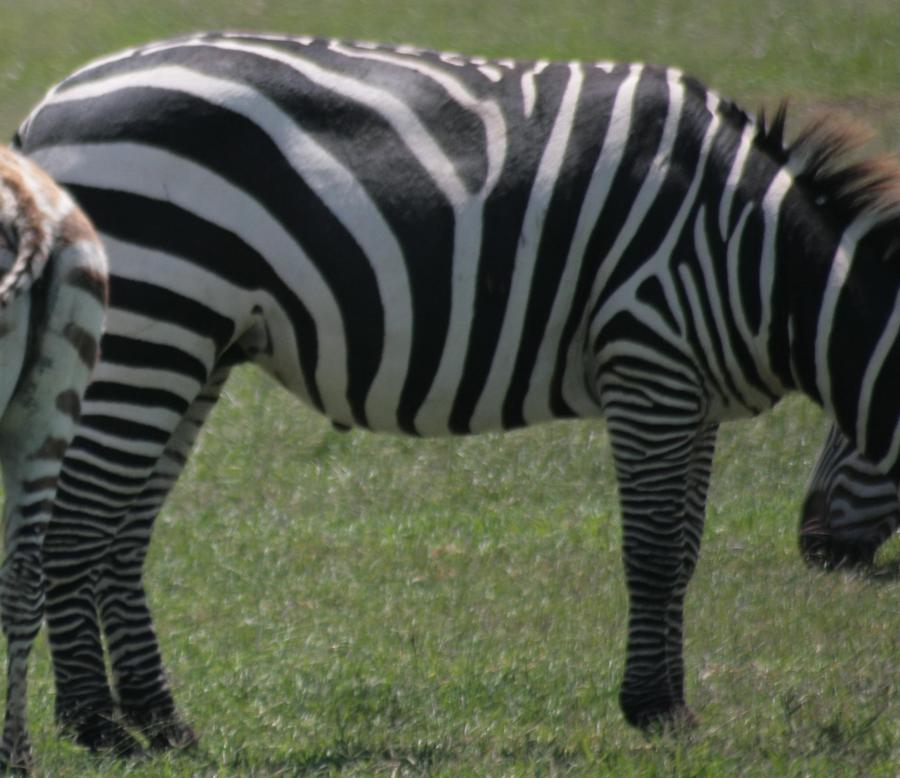zebra_plains: (54, 42, 752, 413)
